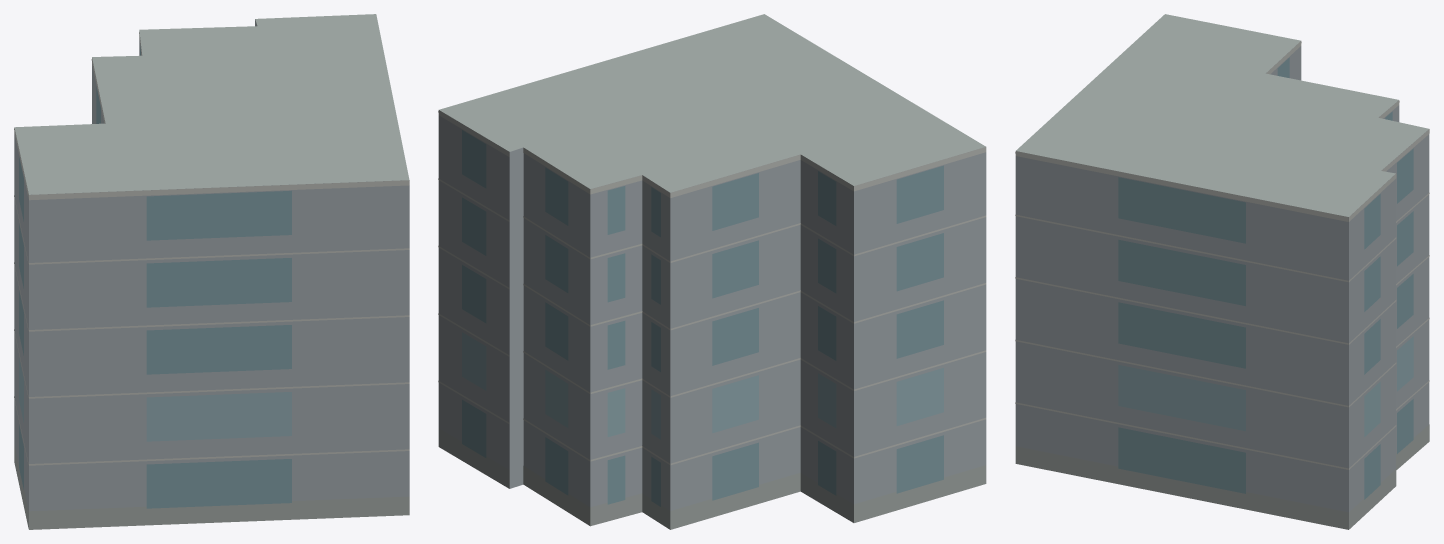
File: survey-upis-32714346.glb
3 views of the same model, side by side, from view 1: azimuth 30°, elevation 25°; view 2: azimuth 150°, elevation 25°; view 3: azimuth 270°, elevation 25° (orthographic). The views are drawn at different scales.
Visible parts, largest first — view 1: survey-upis-32714346.tmp; view 2: survey-upis-32714346.tmp; view 3: survey-upis-32714346.tmp.
Boxes of the visible parts, bbox=[...] form: survey-upis-32714346.tmp: bbox=[14, 14, 409, 529]; survey-upis-32714346.tmp: bbox=[438, 14, 986, 529]; survey-upis-32714346.tmp: bbox=[1015, 14, 1429, 529].
Size of the model in its own units: 21.26 by 15.25 by 18.31.
